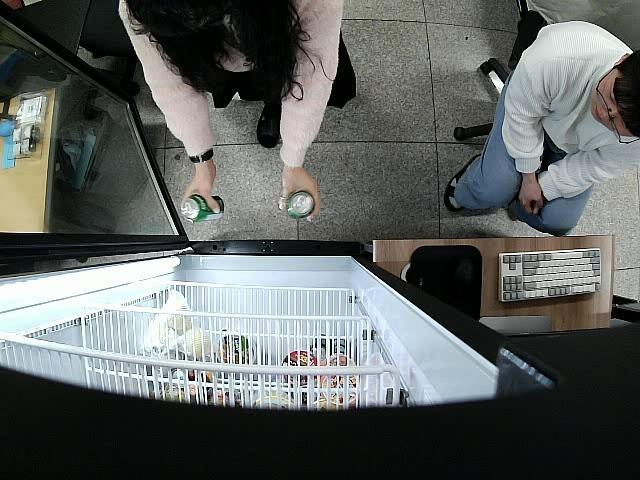12_chilsungCider: (180, 194, 226, 222), (285, 190, 316, 219)
